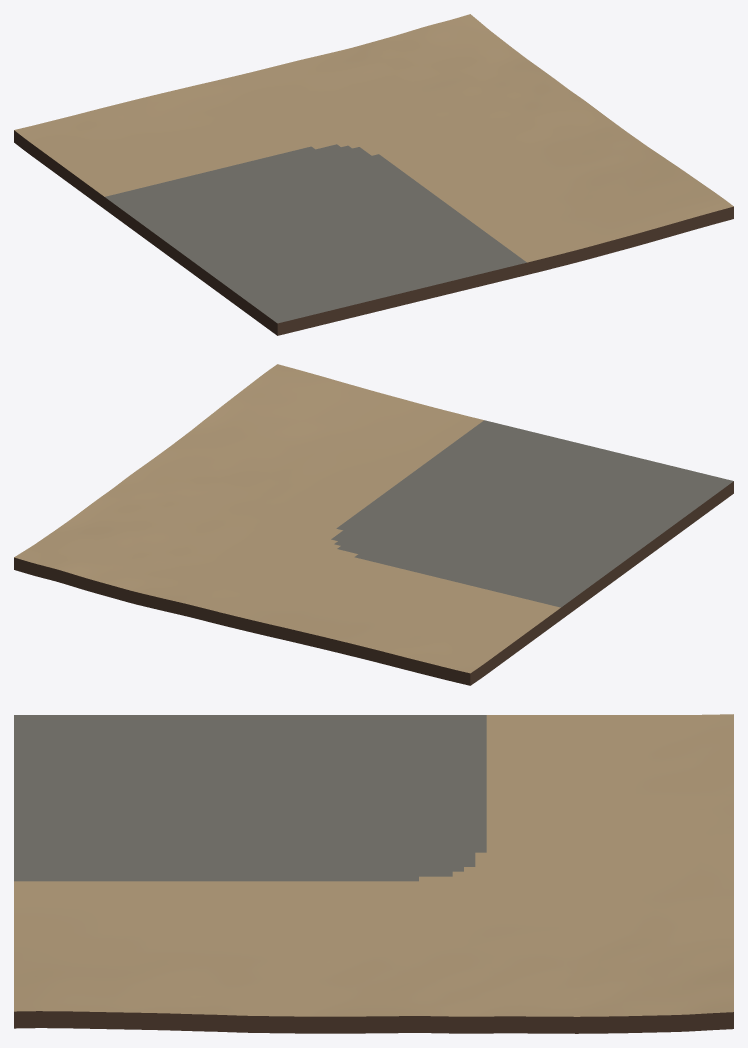
Rendered from Terrain_03_03.fbx.
3 views of the same model, one above another, from view 1: azimuth 30°, elevation 25°; view 2: azimuth 150°, elevation 25°; view 3: azimuth 270°, elevation 25° (orthographic). The views are drawn at different scales.
Parts seen in each view (by area): view 1: Terrain_03_03_LOD0; view 2: Terrain_03_03_LOD0; view 3: Terrain_03_03_LOD0.
Boxes of the visible parts, x1,y1,x2,y2 form: Terrain_03_03_LOD0: [14, 14, 733, 335]; Terrain_03_03_LOD0: [14, 364, 733, 685]; Terrain_03_03_LOD0: [14, 714, 733, 1033].
Size of what is drawn, in the model's own units: 384 by 14.73 by 384.
